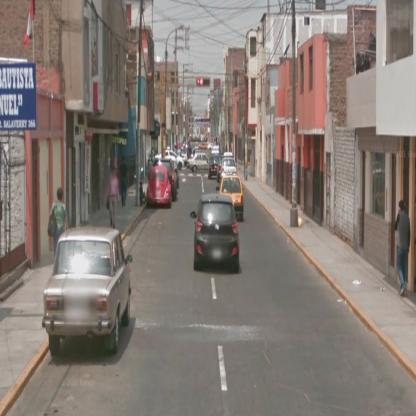Peaton: (396, 201, 412, 300), (48, 188, 71, 251), (109, 168, 121, 229), (120, 158, 131, 207)
Pista: (2, 181, 414, 416)
Vehiculo: (41, 229, 131, 361), (194, 196, 240, 274), (147, 164, 173, 211), (156, 160, 180, 204), (221, 177, 244, 221), (155, 150, 185, 172), (219, 159, 237, 184), (188, 153, 209, 174), (209, 156, 223, 182)
